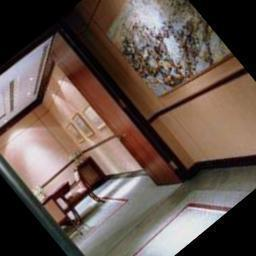Puerta: (48, 36, 182, 191)
